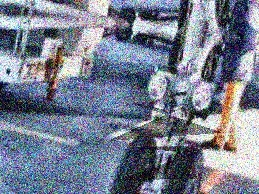wheel: (99, 131, 164, 194), (154, 143, 210, 194)
